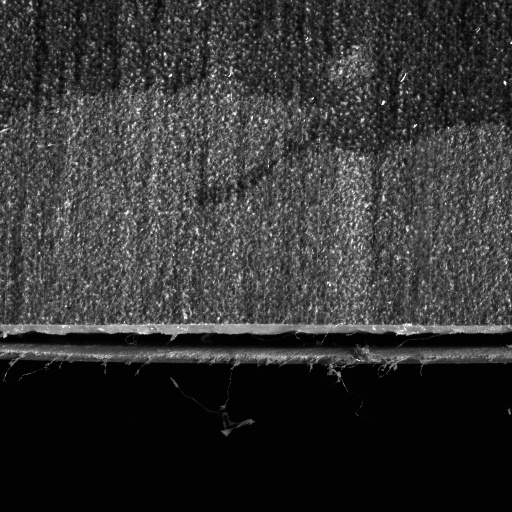kaijiao: (0, 319, 511, 368)
